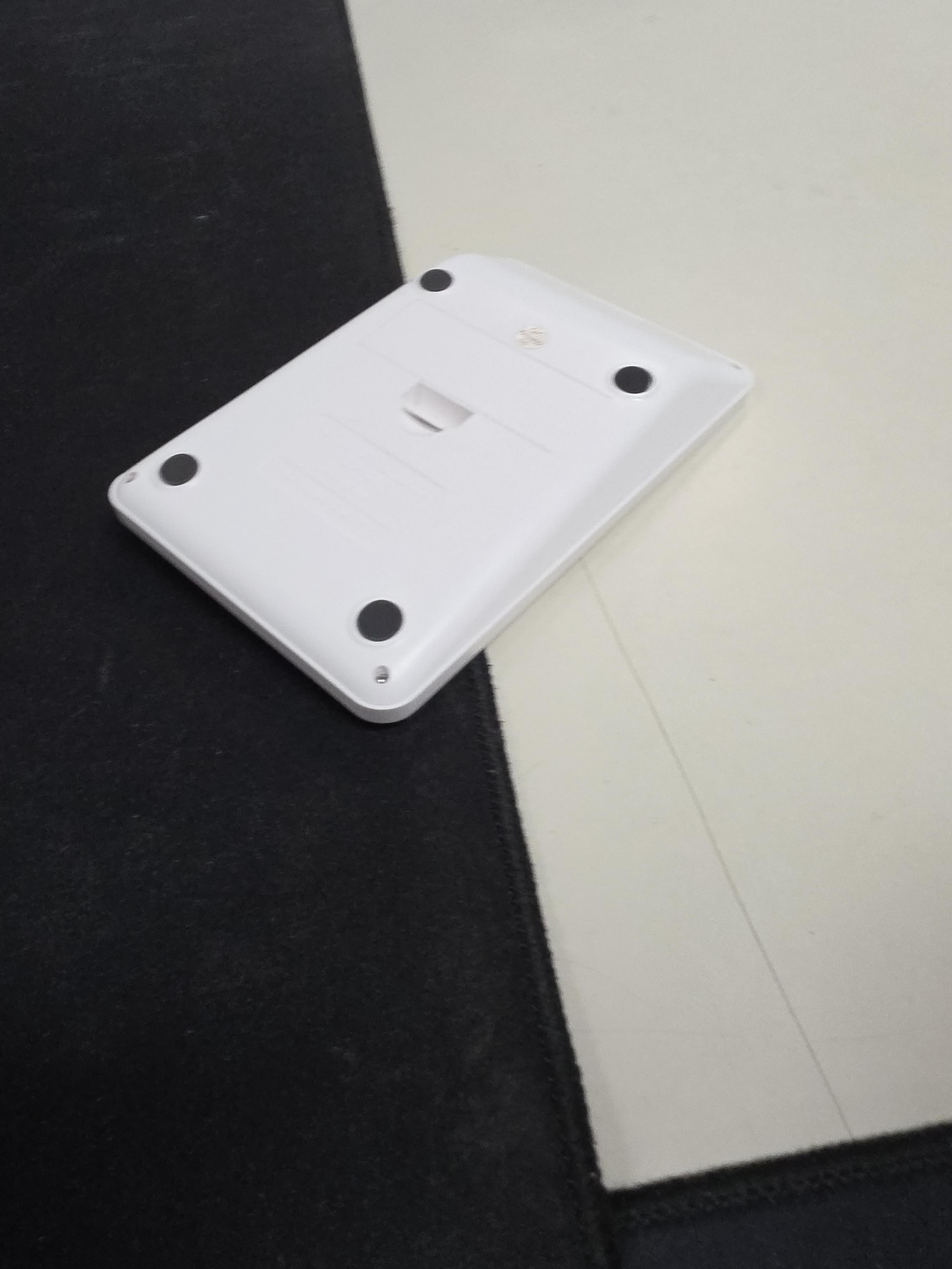calculator: (108, 253, 756, 724)
